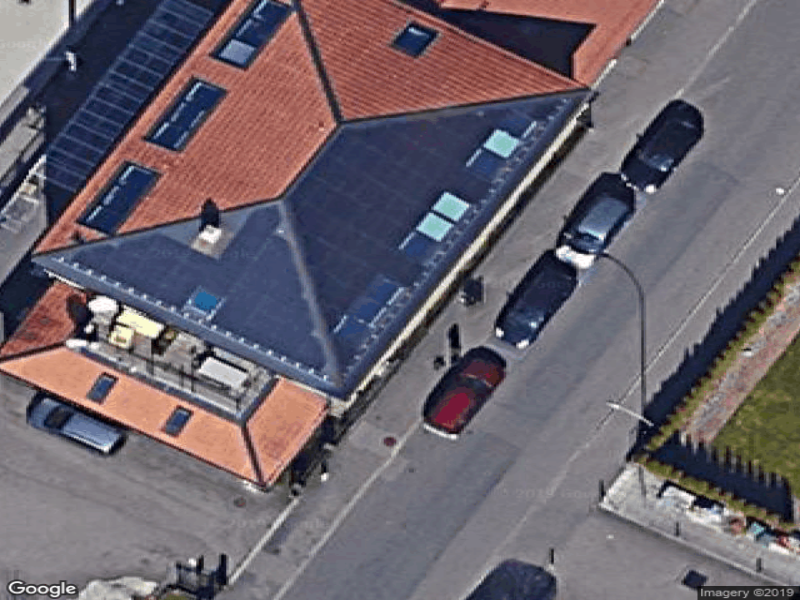pv: (88, 92, 576, 380)
